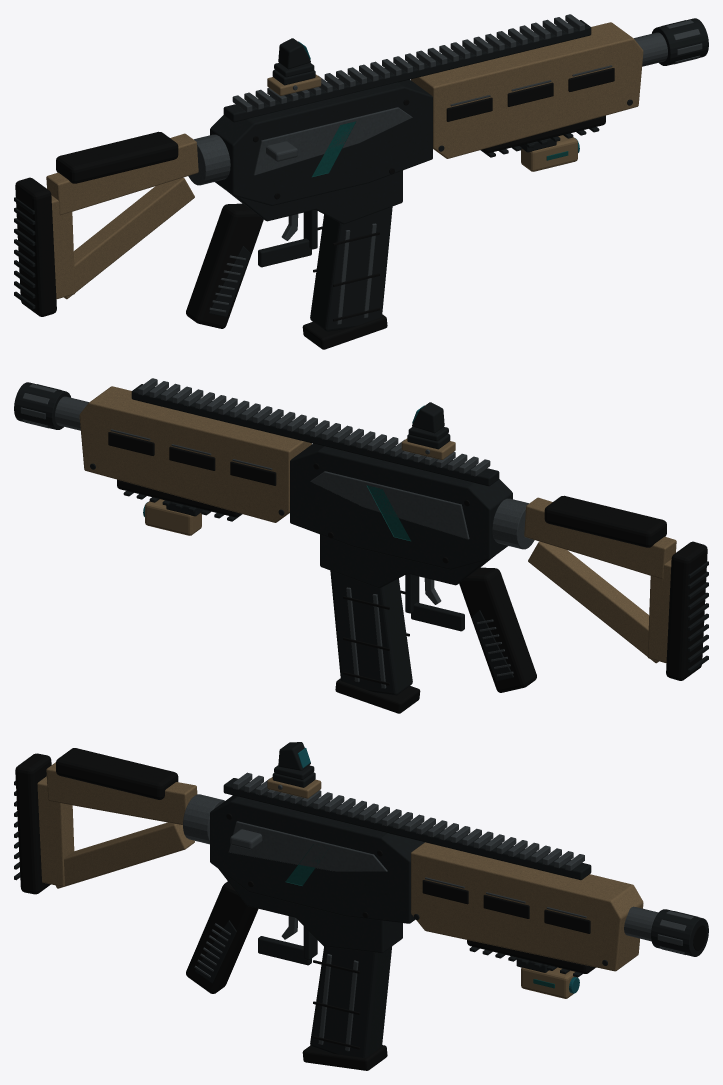
Rendered from kite01.compact_optic.glb.
3 renders of one model, top to bottom at view 1: azimuth 30°, elevation 25°; view 2: azimuth 150°, elevation 25°; view 3: azimuth 330°, elevation 25°, orthographic.
Visible parts, largest first — view 1: kite01.compact_optic__root, kite01.compact_optic__stock.standard, kite01.compact_optic__handguard.standard, kite01.compact_optic__magazine, kite01.compact_optic__grip, kite01.compact_optic__muzzle, kite01.compact_optic__light, kite01.compact_optic__sight, kite01.compact_optic__adapter; view 2: kite01.compact_optic__root, kite01.compact_optic__stock.standard, kite01.compact_optic__handguard.standard, kite01.compact_optic__magazine, kite01.compact_optic__grip, kite01.compact_optic__muzzle, kite01.compact_optic__light, kite01.compact_optic__sight, kite01.compact_optic__adapter; view 3: kite01.compact_optic__root, kite01.compact_optic__handguard.standard, kite01.compact_optic__stock.standard, kite01.compact_optic__magazine, kite01.compact_optic__grip, kite01.compact_optic__muzzle, kite01.compact_optic__light, kite01.compact_optic__sight, kite01.compact_optic__adapter.
Boxes of the visible parts, <box> form: kite01.compact_optic__root: <box>210,14,591,267</box>; kite01.compact_optic__stock.standard: <box>14,131,230,316</box>; kite01.compact_optic__handguard.standard: <box>411,22,643,158</box>; kite01.compact_optic__magazine: <box>302,206,392,349</box>; kite01.compact_optic__grip: <box>186,203,263,328</box>; kite01.compact_optic__muzzle: <box>634,18,708,66</box>; kite01.compact_optic__light: <box>519,135,579,171</box>; kite01.compact_optic__sight: <box>274,38,314,77</box>; kite01.compact_optic__adapter: <box>267,70,321,95</box>; kite01.compact_optic__root: <box>131,378,512,631</box>; kite01.compact_optic__stock.standard: <box>492,495,708,680</box>; kite01.compact_optic__handguard.standard: <box>79,386,311,522</box>; kite01.compact_optic__magazine: <box>330,570,420,713</box>; kite01.compact_optic__grip: <box>459,567,536,692</box>; kite01.compact_optic__muzzle: <box>14,382,88,430</box>; kite01.compact_optic__light: <box>143,499,203,535</box>; kite01.compact_optic__sight: <box>408,402,448,441</box>; kite01.compact_optic__adapter: <box>401,434,455,459</box>; kite01.compact_optic__root: <box>210,772,591,965</box>; kite01.compact_optic__handguard.standard: <box>411,842,643,977</box>; kite01.compact_optic__stock.standard: <box>14,748,224,894</box>; kite01.compact_optic__magazine: <box>302,946,391,1070</box>; kite01.compact_optic__grip: <box>186,881,258,993</box>; kite01.compact_optic__muzzle: <box>624,906,708,956</box>; kite01.compact_optic__light: <box>516,958,579,998</box>; kite01.compact_optic__sight: <box>274,742,314,779</box>; kite01.compact_optic__adapter: <box>267,772,321,798</box>.
Bounding box in the file's own units: 0.9445 × 0.4078 × 0.09.
Materials: 6 (6 with a texture image).
